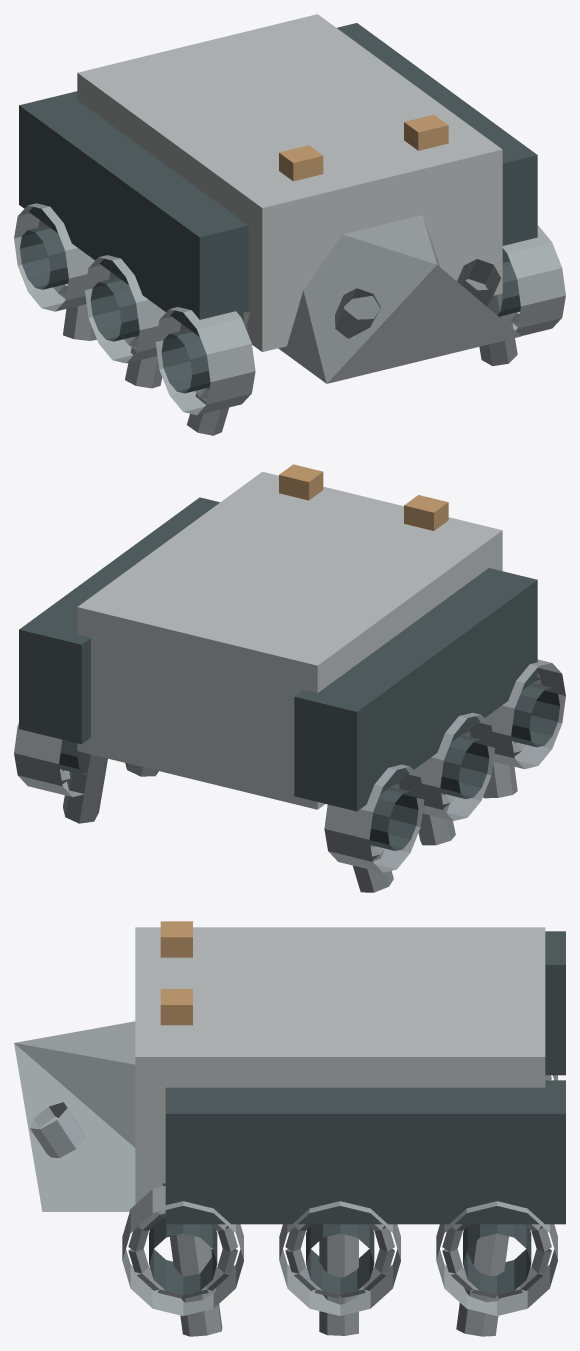
File: 09_Conveyor_Hound.obj
3 views of the same model, one above another, from view 1: azimuth 30°, elevation 25°; view 2: azimuth 150°, elevation 25°; view 3: azimuth 270°, elevation 25° (orthographic). The views are drawn at different scales.
Parts seen in each view (by area): view 1: 09_Conveyor_Hound; view 2: 09_Conveyor_Hound; view 3: 09_Conveyor_Hound.
Part boxes in pixels (<box>): 09_Conveyor_Hound: <box>14,14,565,435</box>; 09_Conveyor_Hound: <box>14,464,565,892</box>; 09_Conveyor_Hound: <box>14,921,565,1336</box>.
Bounding box in the file's own units: 1.47 × 1.01 × 1.72.
